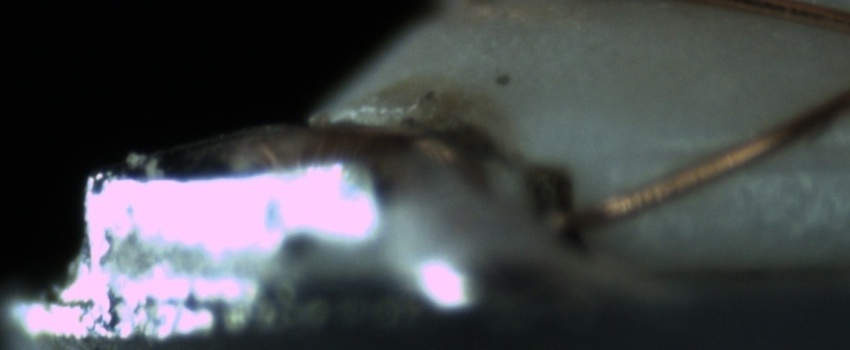DL: (636, 115, 848, 191)
